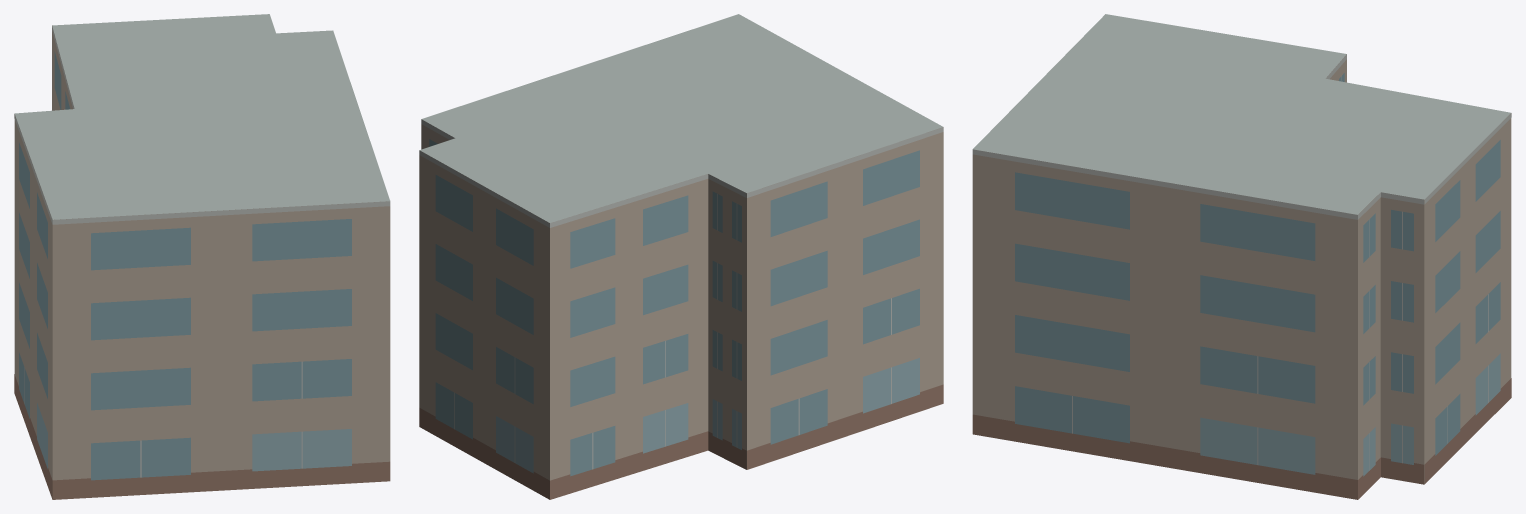
File: survey-upis-32834741.glb
The picture shows the model from 3 angles, left to right: view 1: azimuth 30°, elevation 25°; view 2: azimuth 150°, elevation 25°; view 3: azimuth 270°, elevation 25°; orthographic projection. The views are drawn at different scales.
Parts seen in each view (by area): view 1: survey-upis-32834741.tmp; view 2: survey-upis-32834741.tmp; view 3: survey-upis-32834741.tmp.
Part boxes in pixels (box(x1,y1,x2,y2)): survey-upis-32834741.tmp: box(14, 14, 390, 499); survey-upis-32834741.tmp: box(419, 14, 943, 499); survey-upis-32834741.tmp: box(972, 14, 1511, 499).
Bounding box in the file's own units: 20.87 × 13.8 × 23.65.
